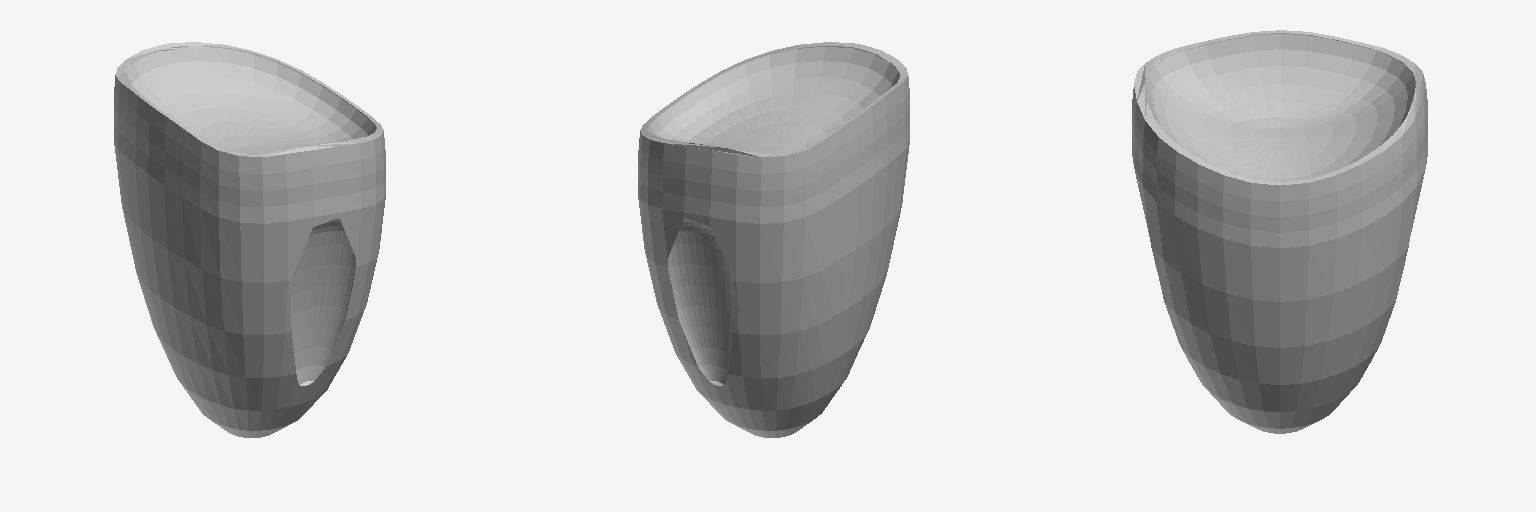
The model's file is eve_body.obj.
The picture shows the model from 3 angles: view 1: azimuth 30°, elevation 25°; view 2: azimuth 150°, elevation 25°; view 3: azimuth 270°, elevation 25°; orthographic projection.
Visible parts, largest first — view 1: Sphere; view 2: Sphere; view 3: Sphere.
Boxes of the visible parts, x1,y1,x2,y2 form: Sphere: [114, 42, 385, 437]; Sphere: [638, 42, 909, 437]; Sphere: [1132, 30, 1427, 433].
Size of the model in its own units: 1.36 by 2.12 by 1.63.